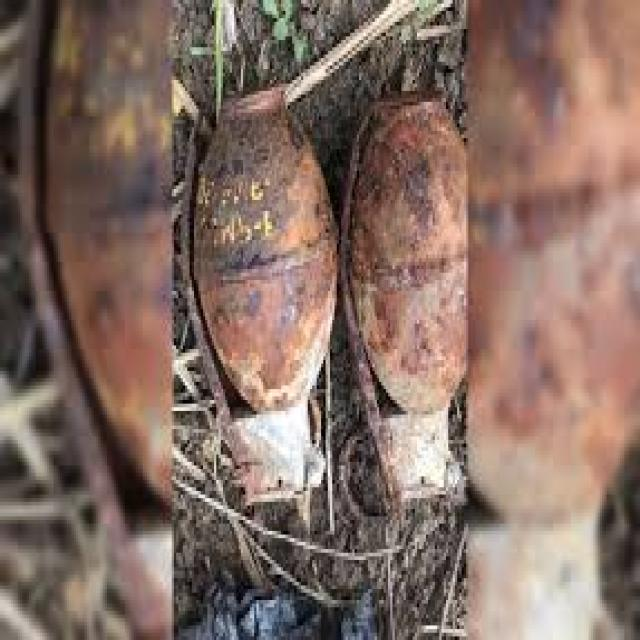grenade: (169, 75, 343, 515), (337, 84, 471, 513)
